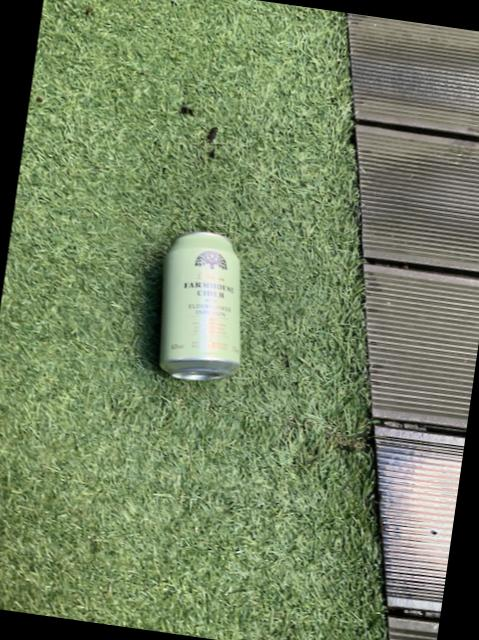metal: (347, 12, 479, 640)
